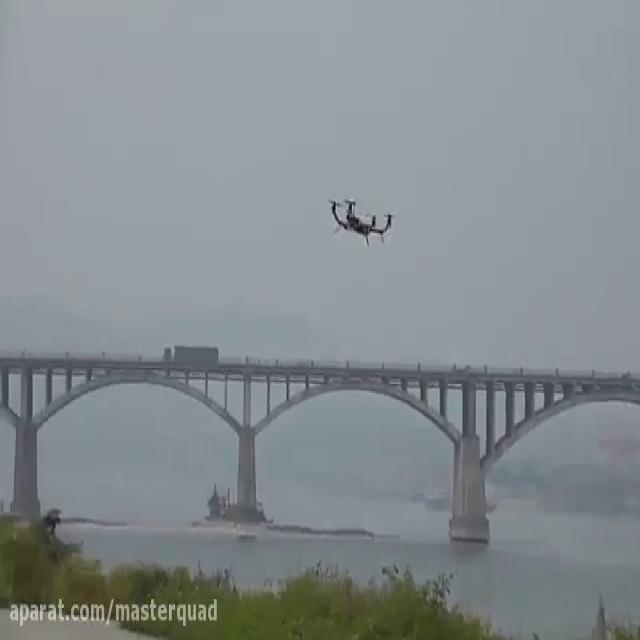drone: (323, 188, 396, 246)
